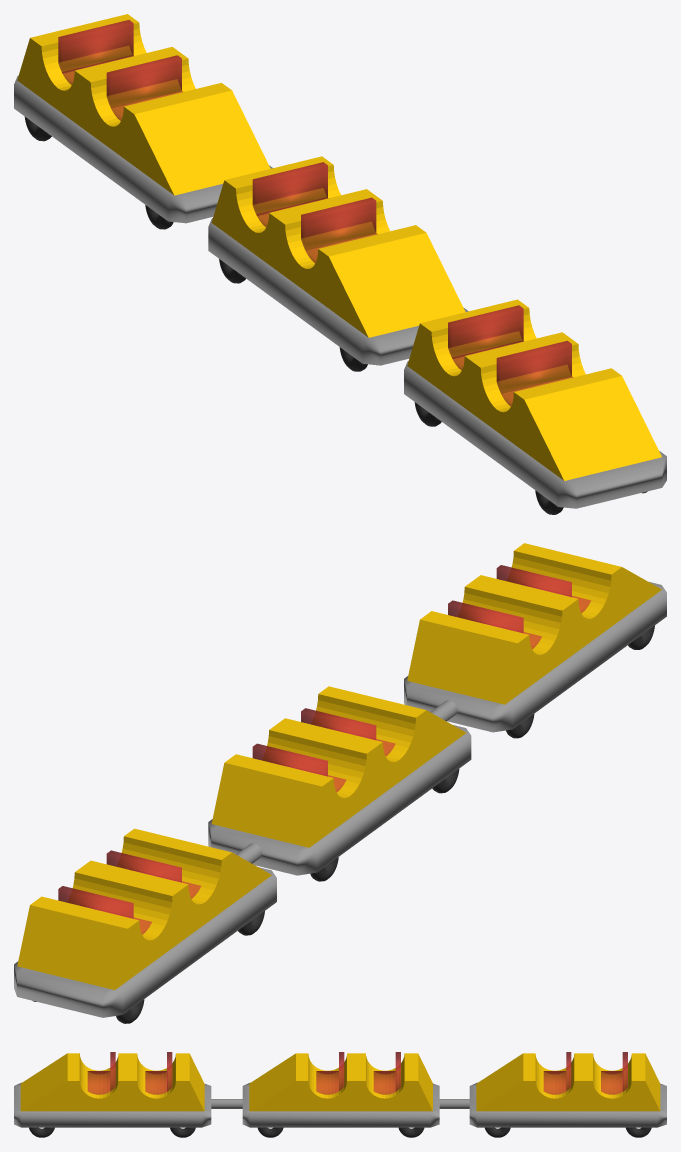
File: AchterbahnWagen.glb
3 views of the same model, one above another, from view 1: azimuth 30°, elevation 25°; view 2: azimuth 150°, elevation 25°; view 3: azimuth 270°, elevation 25° (orthographic). The views are drawn at different scales.
Visible parts, largest first — view 1: Achterbahnwagen; view 2: Achterbahnwagen; view 3: Achterbahnwagen.
Part boxes in pixels (x1,y1,x2,y2): Achterbahnwagen: (14, 14, 666, 514); Achterbahnwagen: (14, 543, 666, 1023); Achterbahnwagen: (14, 1052, 666, 1137).
Size of the model in its own units: 4.38 by 4.11 by 38.95.
